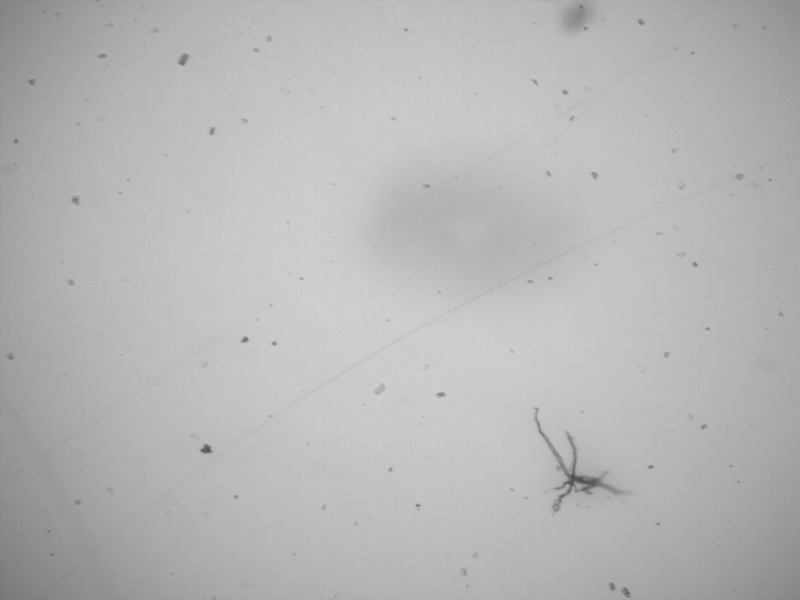fiber: (533, 404, 633, 497), (549, 430, 580, 517)
